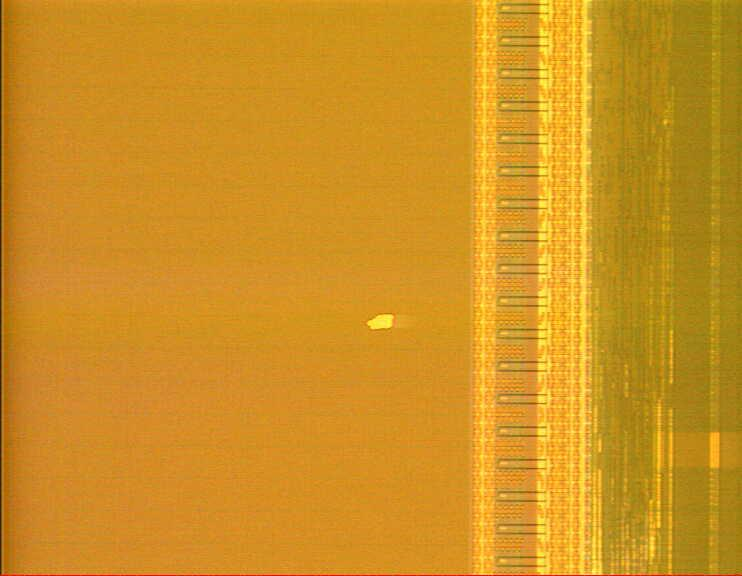BLOCK ETCH: (367, 309, 399, 336)
